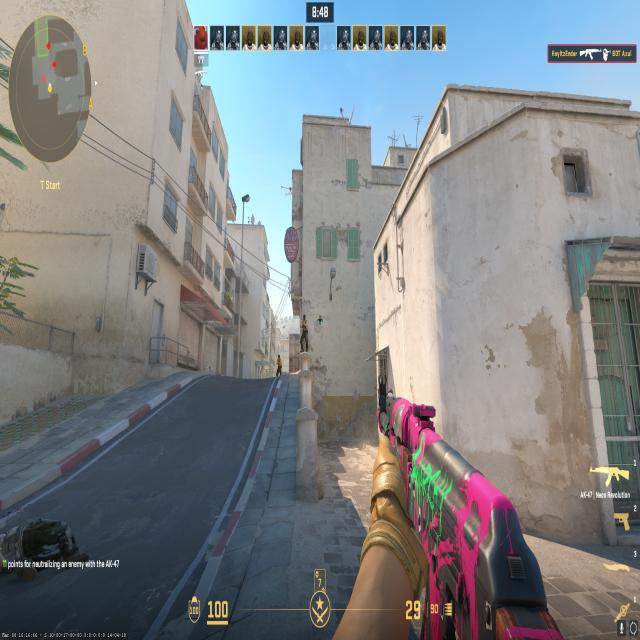t: (300, 312, 310, 353), (275, 351, 283, 376)
